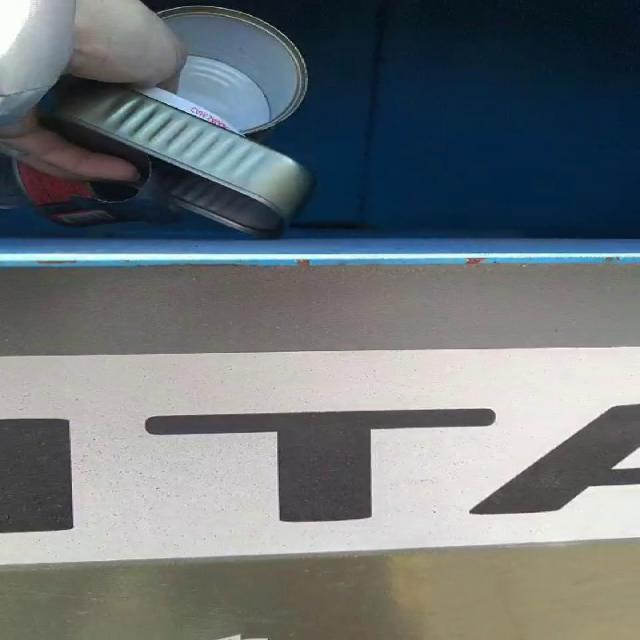Bin: (0, 540, 639, 640)
Metal: (13, 6, 313, 237)
